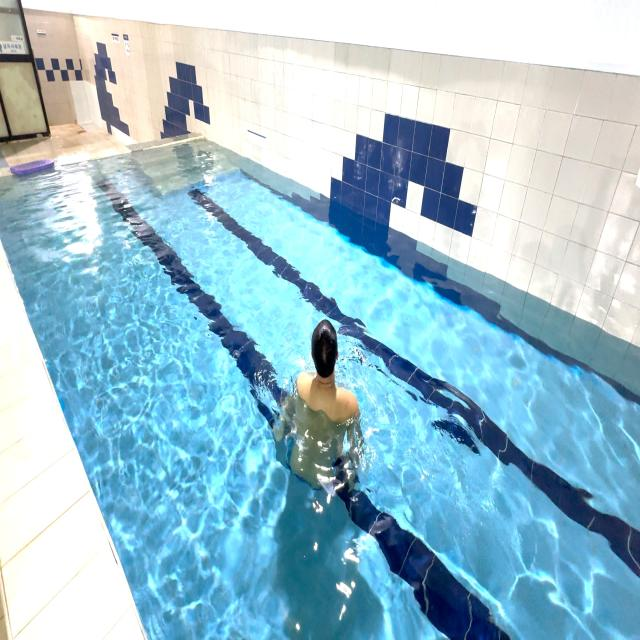Swimming: (258, 294, 389, 512)
